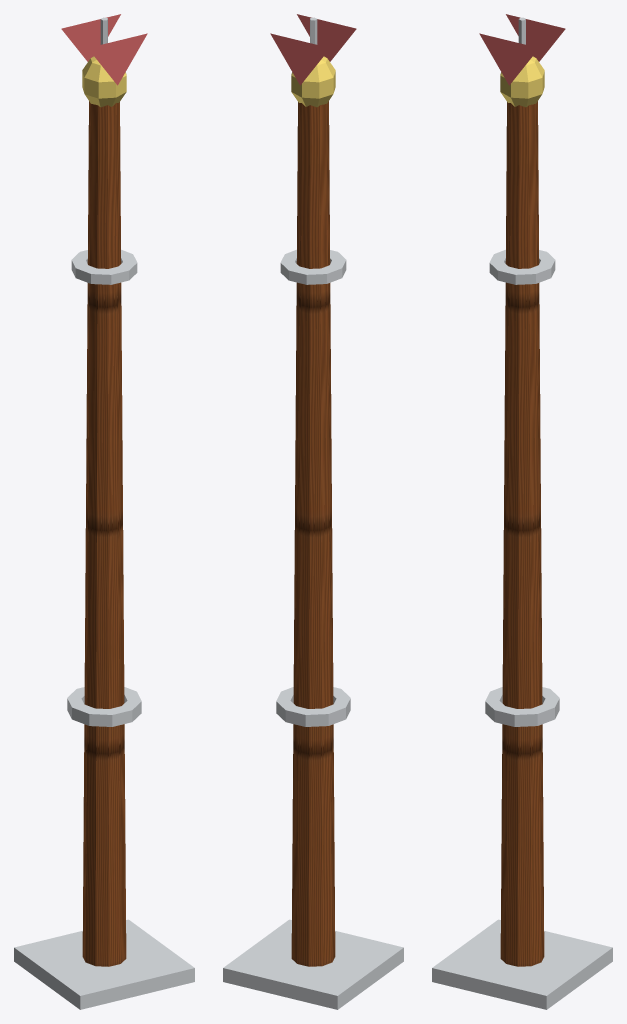
File: travelling-circus-and-big-top-big-top-centre-pole-f3e25747__36228.glb
The picture shows the model from 3 angles, left to right: view 1: azimuth 30°, elevation 25°; view 2: azimuth 150°, elevation 25°; view 3: azimuth 330°, elevation 25°; orthographic projection.
Visible parts, largest first — view 1: big-top-centre-pole-timber, big-top-centre-pole-steel, big-top-centre-pole-stripe, big-top-centre-pole-gold; view 2: big-top-centre-pole-timber, big-top-centre-pole-steel, big-top-centre-pole-stripe, big-top-centre-pole-gold; view 3: big-top-centre-pole-timber, big-top-centre-pole-steel, big-top-centre-pole-stripe, big-top-centre-pole-gold.
Boxes of the visible parts, x1,y1,x2,y2 form: big-top-centre-pole-timber: [82, 101, 126, 966]; big-top-centre-pole-steel: [14, 17, 194, 1009]; big-top-centre-pole-stripe: [61, 14, 147, 85]; big-top-centre-pole-gold: [82, 56, 126, 107]; big-top-centre-pole-timber: [291, 101, 335, 966]; big-top-centre-pole-steel: [223, 17, 403, 1009]; big-top-centre-pole-stripe: [270, 14, 356, 85]; big-top-centre-pole-gold: [291, 56, 335, 107]; big-top-centre-pole-timber: [500, 101, 544, 966]; big-top-centre-pole-steel: [432, 17, 612, 1009]; big-top-centre-pole-stripe: [479, 14, 565, 85]; big-top-centre-pole-gold: [500, 56, 544, 107].
Size of the model in its own units: 1.2 by 9.52 by 1.2.
4 materials, 1 textured.
